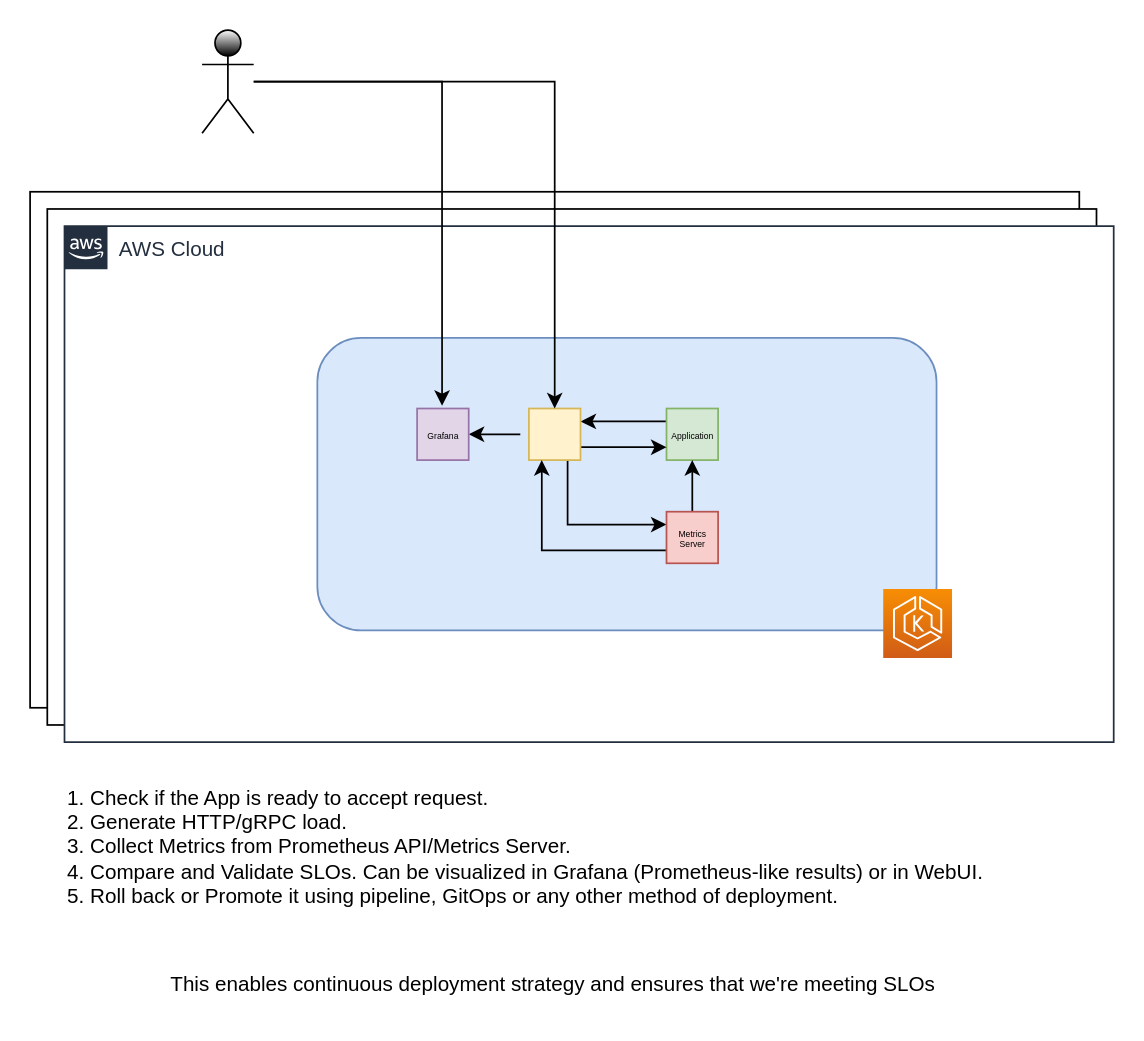
The diagram is 1144 pixels wide and 1041 high, and some of its shapes have lost their labels. The shapes that lost their labels are listed below. From the top down, each one's centre as x and y in pixels, then its label:
point (227, 80): User
point (553, 433): Perf-Test
